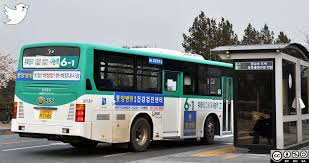bnum: (59, 55, 77, 68)
